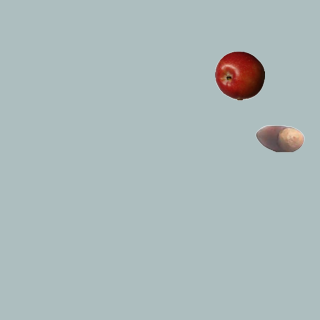Apple Braeburn: (214, 50, 264, 100)
Hazelnut: (254, 113, 304, 163)
